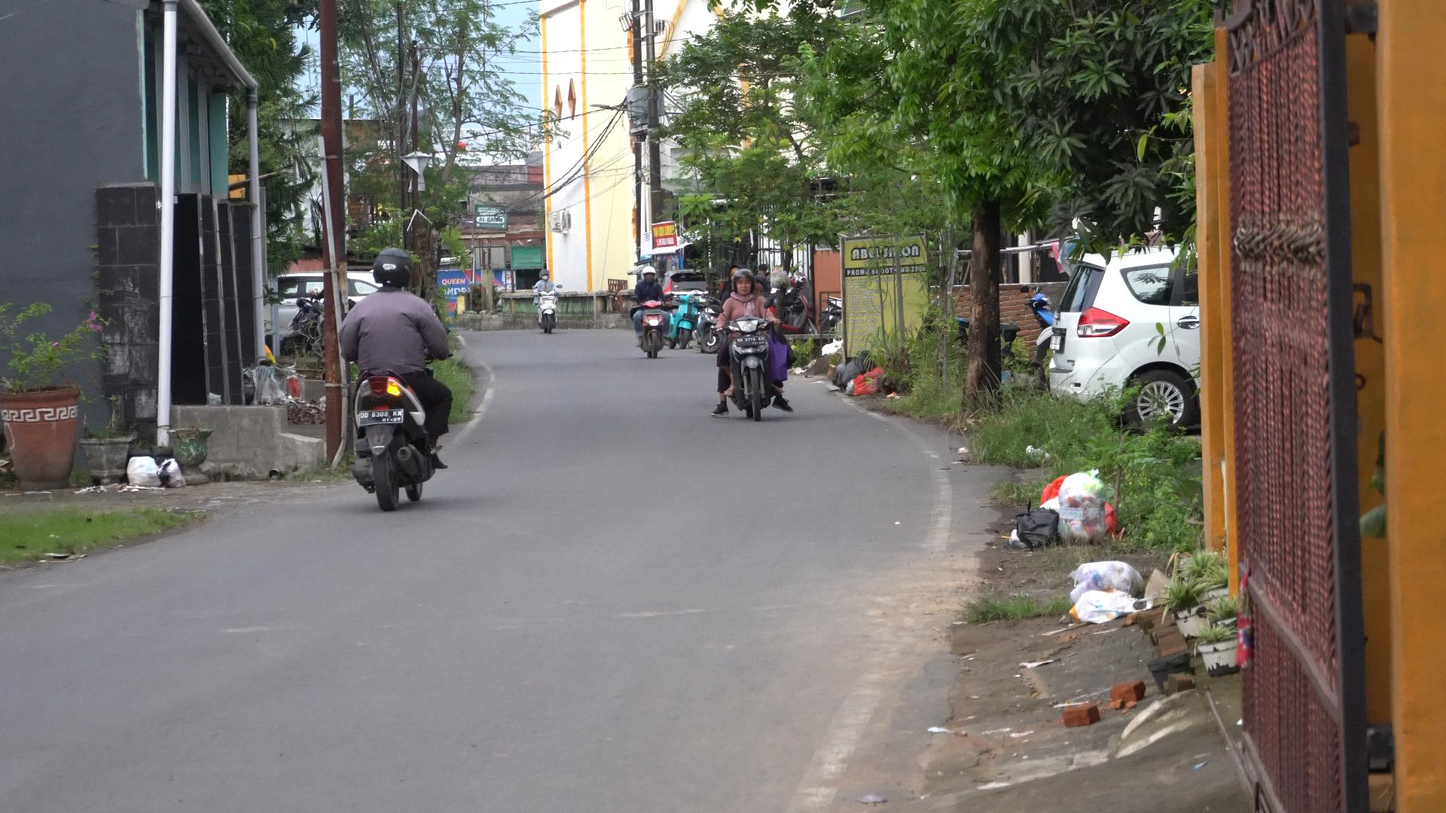number-plate: (736, 337, 766, 346)
